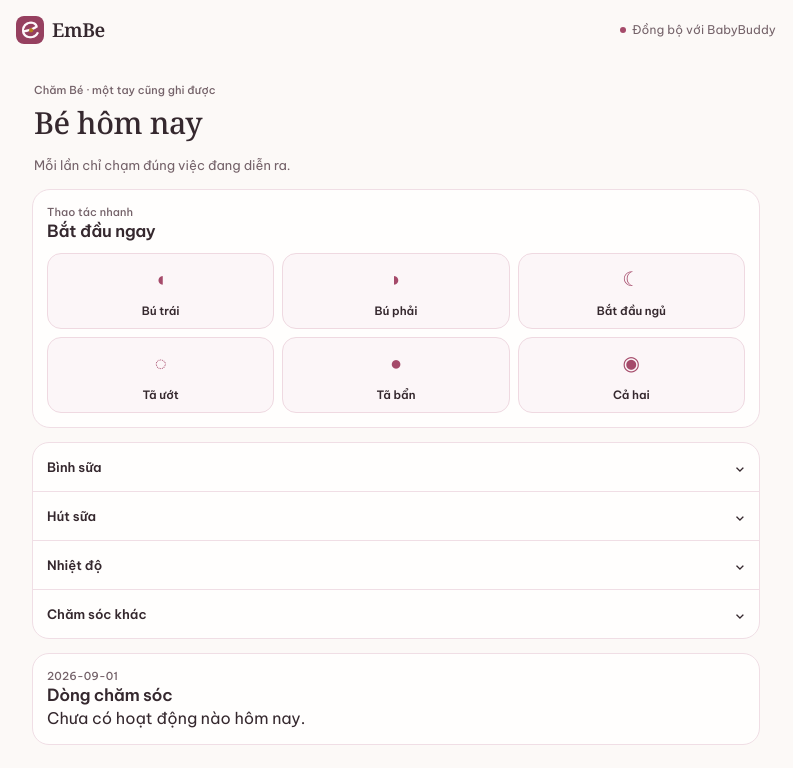
Test: baby daily page › starts breastfeeding with one tap and shows an end action
Click the button "◖ Bú trái": (161, 291) top-left (47, 253), bottom-right (274, 329)
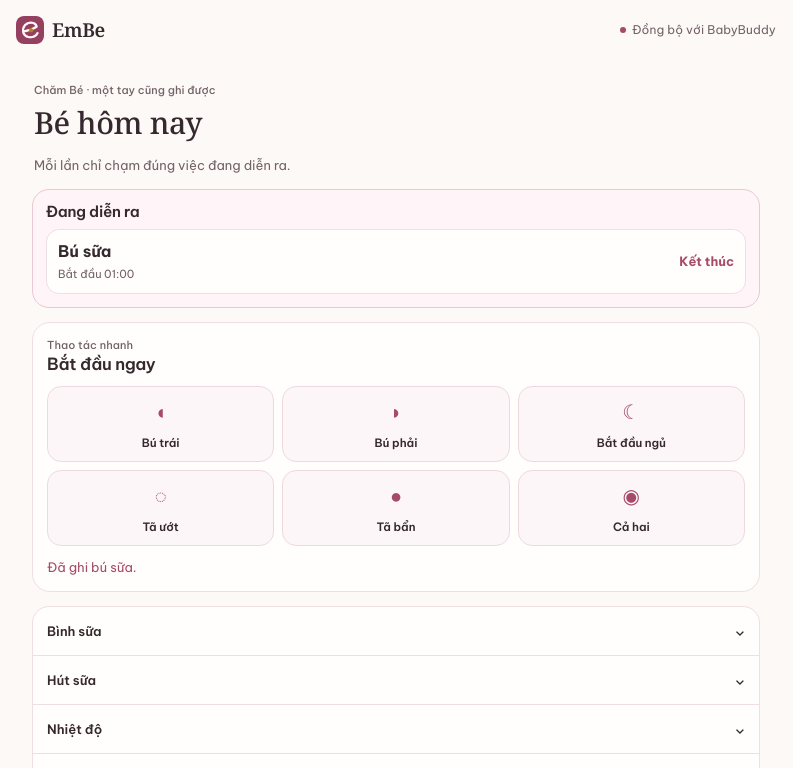
Now the heading "Đang diễn ra" is shown, box top-left (46, 202), bottom-right (139, 221)
Now the button "Bú sữa Bắt đầu 01:00 Kết thúc" is shown, box top-left (46, 229), bottom-right (746, 294)
